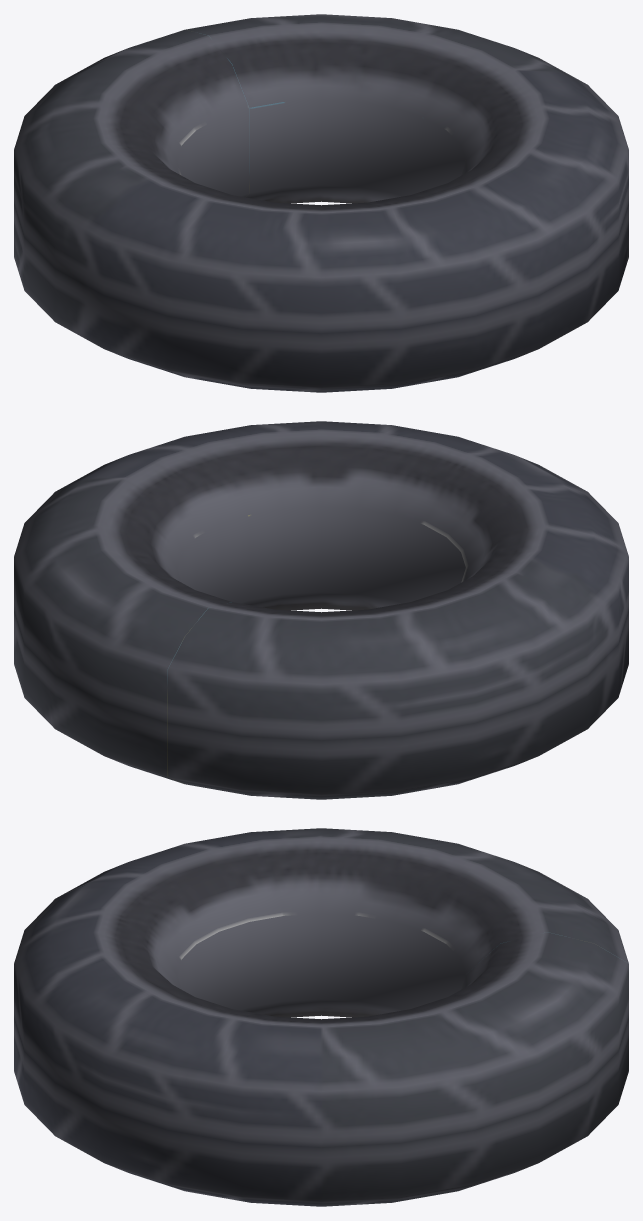
The model's file is WHEEL.fbx.
3 renders of one model, top to bottom at view 1: azimuth 30°, elevation 25°; view 2: azimuth 150°, elevation 25°; view 3: azimuth 270°, elevation 25°, orthographic.
Parts seen in each view (by area): view 1: FLOAT _WHEEL; view 2: FLOAT _WHEEL; view 3: FLOAT _WHEEL.
Part boxes in pixels (x1=…): FLOAT _WHEEL: x1=14, y1=14, x2=628, y2=392; FLOAT _WHEEL: x1=14, y1=421, x2=628, y2=799; FLOAT _WHEEL: x1=14, y1=828, x2=628, y2=1206.
Size of the model in its own units: 163 by 50 by 163.
